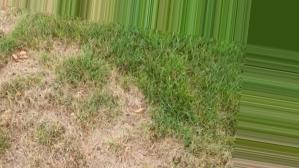patch: (17, 57, 144, 166), (154, 135, 190, 163)
